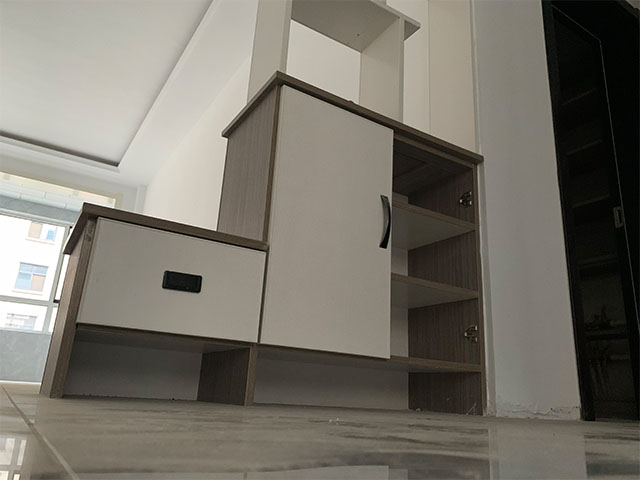cabinet: (38, 69, 490, 415)
